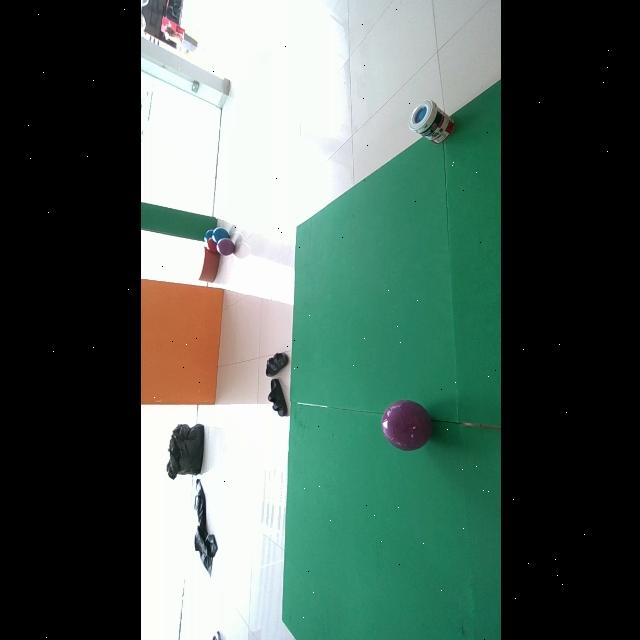P: (381, 400, 431, 451)
